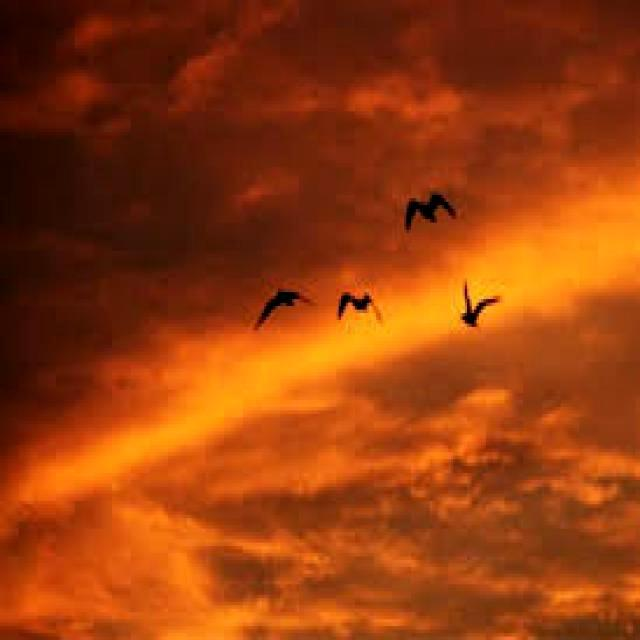bird: (245, 279, 322, 328), (402, 185, 472, 234), (451, 280, 512, 332), (330, 277, 390, 328)
